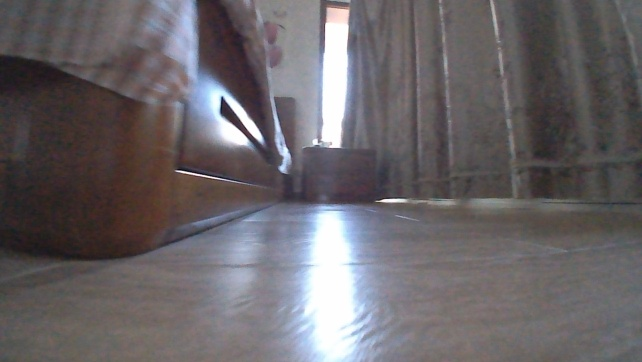bed: (0, 0, 296, 265)
cabinet: (298, 145, 379, 205)
